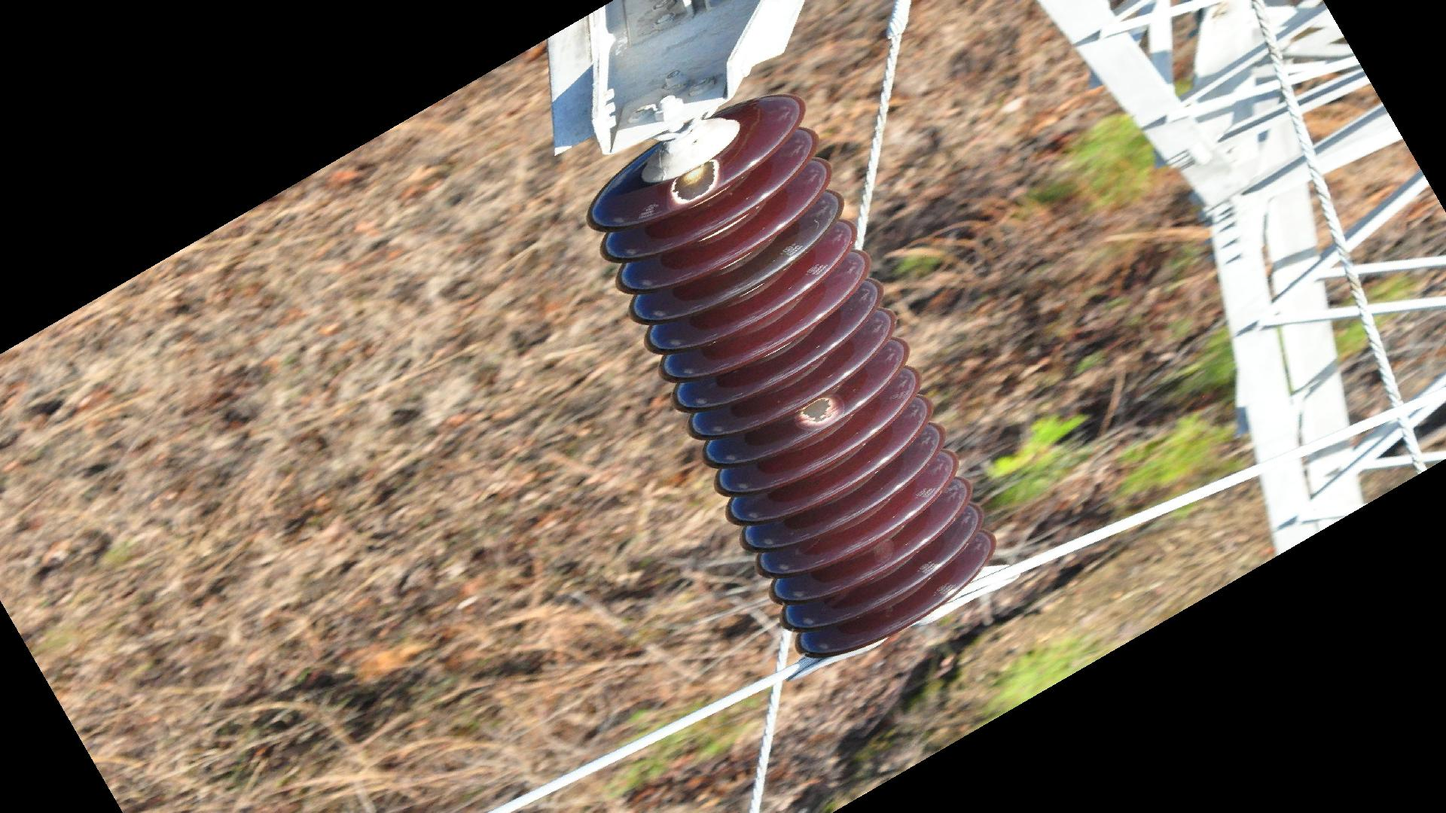insulator: (580, 84, 1003, 664)
insulator_flashover: (667, 156, 724, 206), (791, 392, 843, 431)
